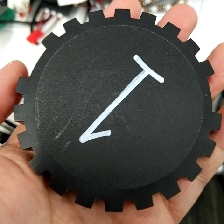gear: (12, 7, 223, 214)
missing: (14, 31, 59, 100), (197, 57, 224, 132)
